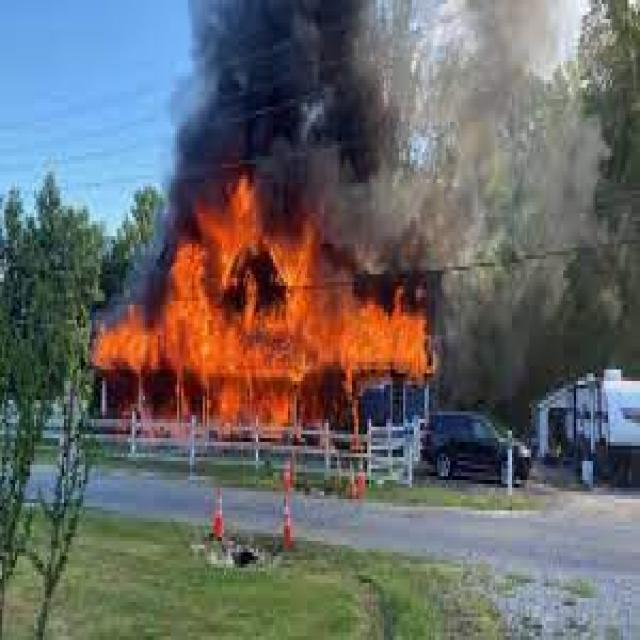Fire: (111, 216, 429, 433)
Smoke: (167, 2, 448, 268)
